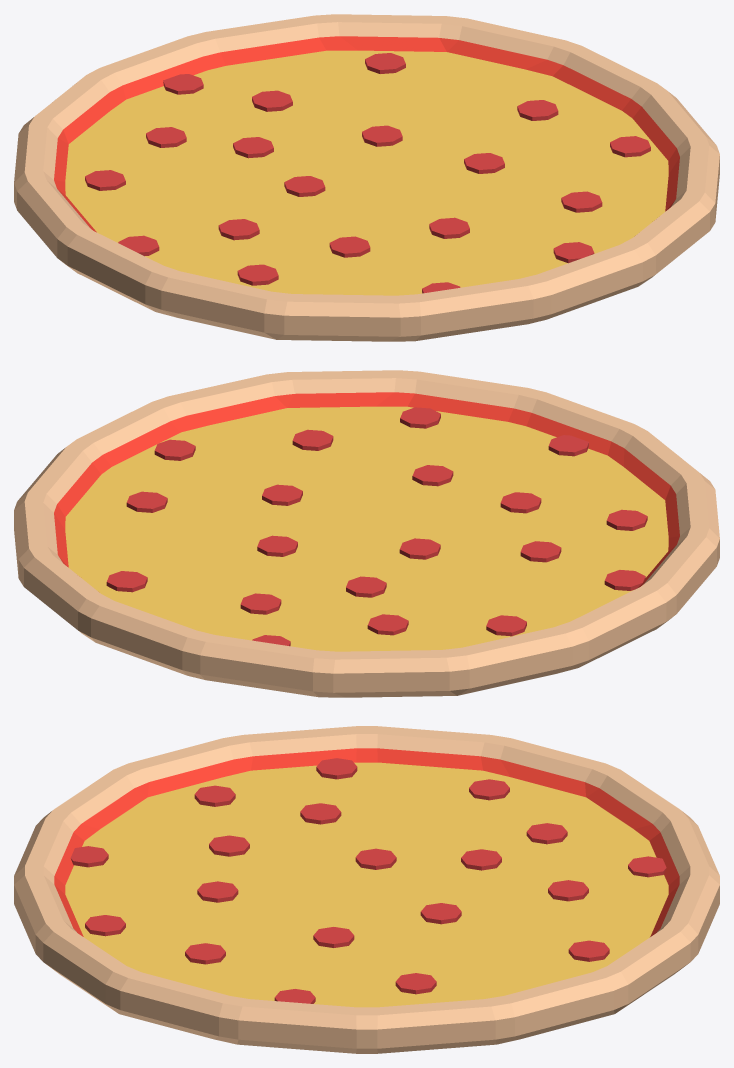
The model's file is Pizza.fbx.
3 views of the same model, one above another, from view 1: azimuth 30°, elevation 25°; view 2: azimuth 150°, elevation 25°; view 3: azimuth 270°, elevation 25° (orthographic).
Parts seen in each view (by area): view 1: Pizzza; view 2: Pizzza; view 3: Pizzza.
Part boxes in pixels (bbox=[...]): Pizzza: bbox=[14, 14, 719, 341]; Pizzza: bbox=[14, 370, 719, 697]; Pizzza: bbox=[14, 726, 719, 1053].
Size of the model in its own units: 166 by 10 by 166.
